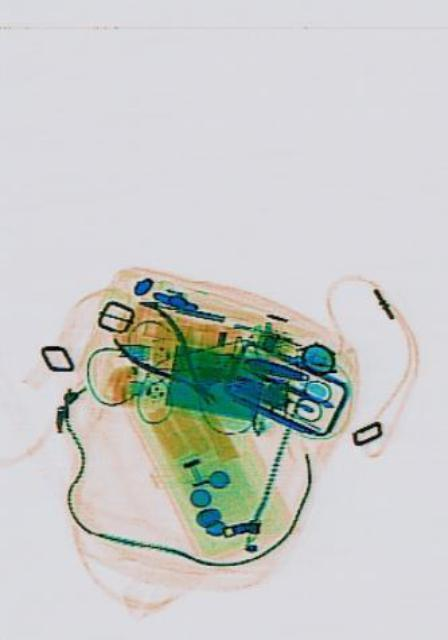Pliers: (108, 286, 227, 428)
Scissors: (241, 349, 329, 426)
